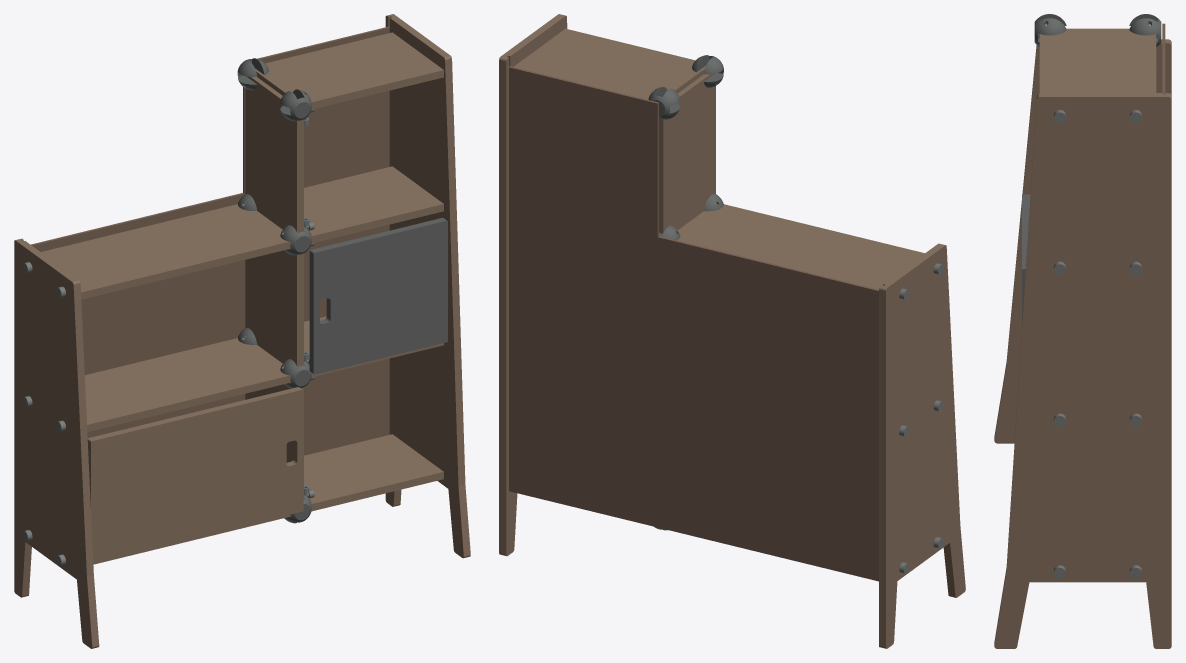
Rendered from assembled.glb.
The picture shows the model from 3 angles, left to right: view 1: azimuth 30°, elevation 25°; view 2: azimuth 150°, elevation 25°; view 3: azimuth 270°, elevation 25°; orthographic projection. The views are drawn at different scales.
Parts seen in each view (by area): view 1: back-panel, door-0, frame-left, frame-right, shelf-2, door-1, shelf-1, shelf-3, shelf-0, partition-2, partition-1, node-x600-l3-front (+1 smaller); view 2: back-panel, frame-left, shelf-2, shelf-3, partition-2, frame-right, node-x600-l3-rear, node-x600-l3-front; view 3: frame-right, shelf-3, frame-left, node-x600-l3-rear, node-x600-l3-front, door-1, back-panel.
Boxes of the visible parts, x1,y1,x2,y2 form: back-panel: (31, 26, 389, 455); door-0: (87, 387, 303, 562); frame-left: (14, 238, 99, 648); frame-right: (385, 14, 470, 558); shelf-2: (41, 166, 443, 299); door-1: (309, 218, 447, 374); shelf-1: (84, 316, 443, 431); shelf-3: (255, 32, 443, 109); shelf-0: (93, 434, 443, 564); partition-2: (245, 76, 303, 233); partition-1: (245, 250, 303, 367); node-x600-l3-front: (280, 89, 311, 121); back-panel: (509, 66, 878, 581); frame-left: (879, 243, 965, 648); shelf-2: (677, 204, 924, 289); shelf-3: (513, 28, 705, 99); partition-2: (659, 73, 715, 233); frame-right: (499, 14, 567, 556); node-x600-l3-rear: (648, 87, 680, 119); node-x600-l3-front: (692, 55, 723, 87); frame-right: (994, 93, 1171, 648); shelf-3: (1039, 28, 1156, 92); frame-left: (994, 39, 1171, 443); node-x600-l3-rear: (1129, 14, 1161, 46); node-x600-l3-front: (1034, 14, 1066, 46); door-1: (1022, 194, 1030, 324); back-panel: (1162, 23, 1165, 94).
Bounding box in the file's own units: 1 × 1.2 × 0.349.
